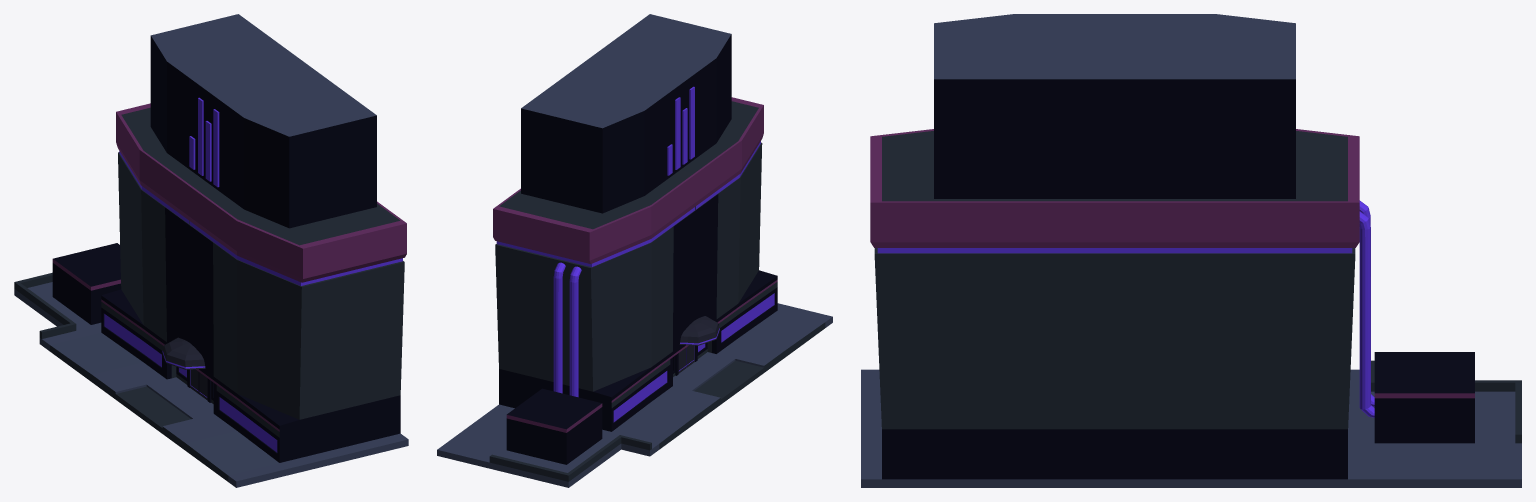
Rendered from Building_JortsEnergy.fbx.
3 renders of one model, left to right at view 1: azimuth 30°, elevation 25°; view 2: azimuth 150°, elevation 25°; view 3: azimuth 270°, elevation 25°, orthographic. The views are drawn at different scales.
Parts seen in each view (by area): view 1: Cube.816; view 2: Cube.816; view 3: Cube.816.
Part boxes in pixels (x1,y1,x2,y2): Cube.816: [14, 14, 408, 487]; Cube.816: [437, 14, 832, 487]; Cube.816: [861, 14, 1521, 487].
Size of the model in its own units: 1000 by 1703 by 2510.
